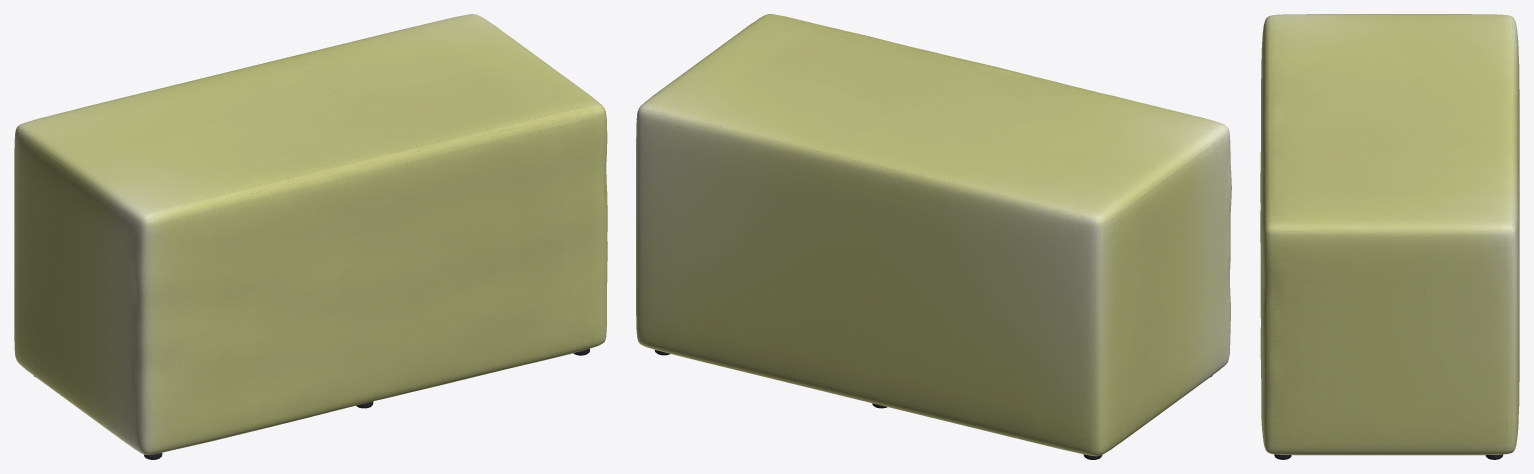
File: pomp_ii_red_artificial_leather.glb
The picture shows the model from 3 angles, left to right: view 1: azimuth 30°, elevation 25°; view 2: azimuth 150°, elevation 25°; view 3: azimuth 270°, elevation 25°; orthographic projection. The views are drawn at different scales.
Parts seen in each view (by area): view 1: pomp_ii-pistacho; view 2: pomp_ii-pistacho; view 3: pomp_ii-pistacho.
Boxes of the visible parts, bbox=[...] form: pomp_ii-pistacho: bbox=[14, 14, 607, 459]; pomp_ii-pistacho: bbox=[636, 14, 1231, 459]; pomp_ii-pistacho: bbox=[1260, 14, 1519, 459].
Bounding box in the file's own units: 1 × 0.5129 × 0.5012.
Materials: 1 (1 with a texture image).
